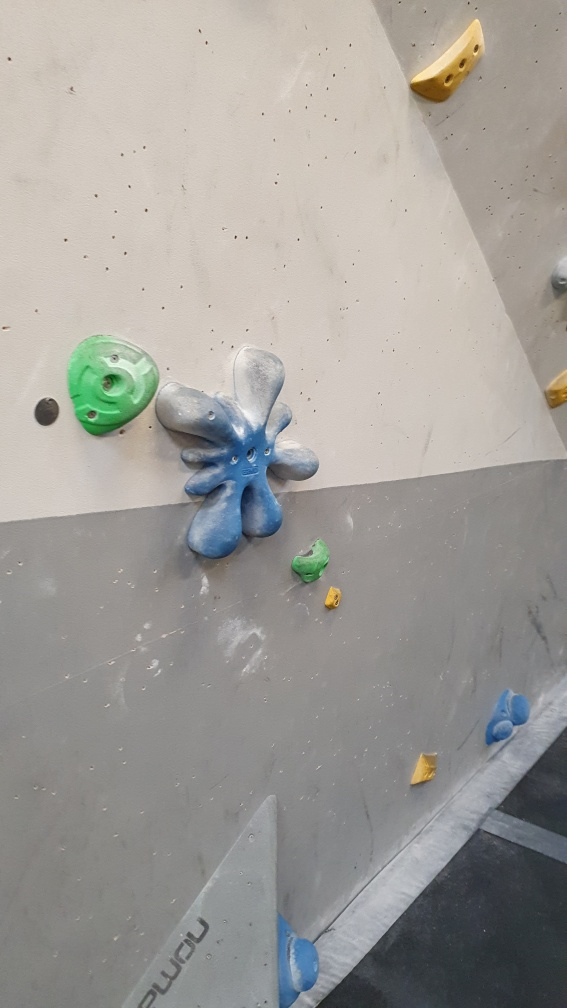Hand Start: (30, 394, 61, 429)
Jug: (69, 329, 161, 439), (289, 537, 332, 584)
Octopus Pinch: (154, 342, 322, 565)
Sloper: (273, 905, 321, 1006)
